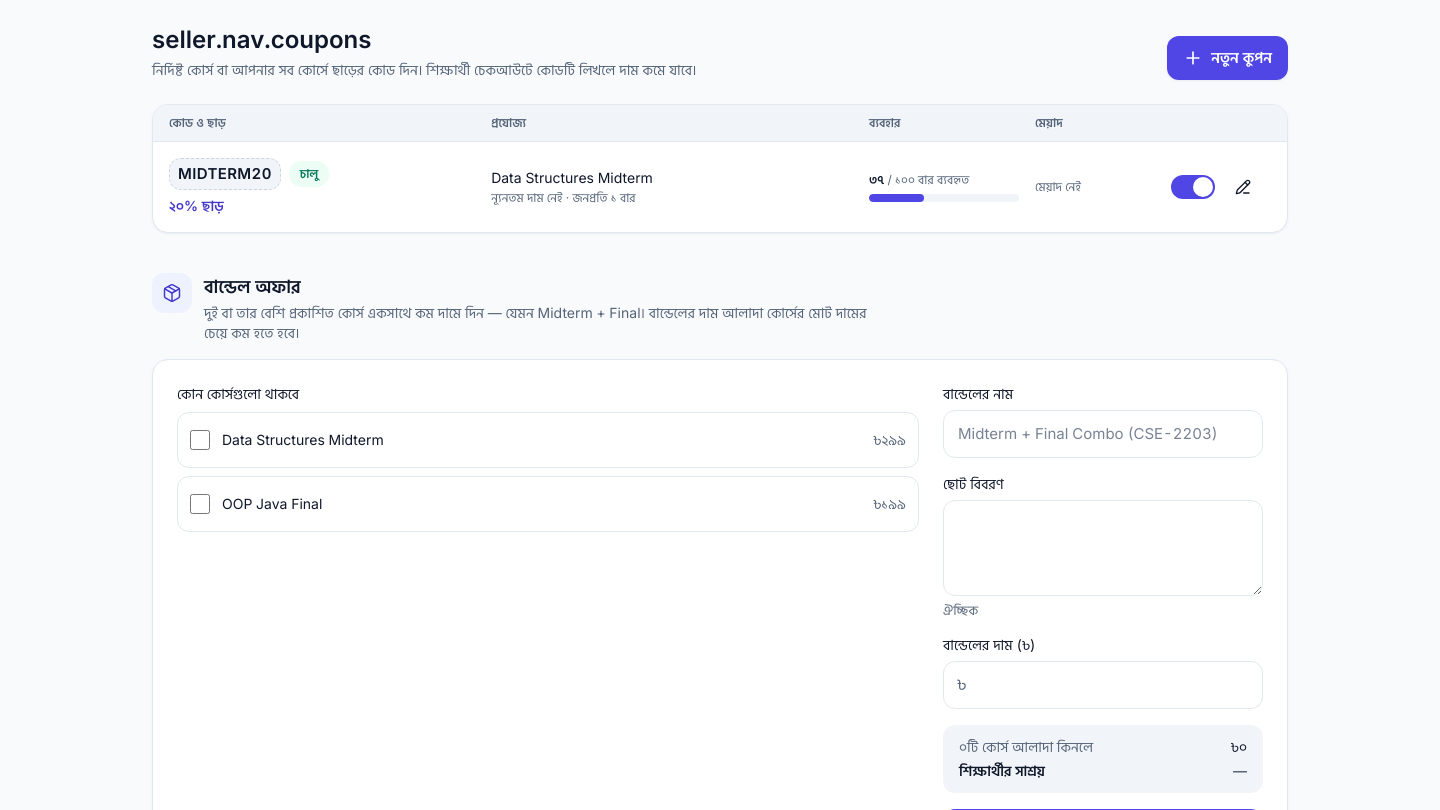
Seller coupons page › lists coupons with usage and toggles active via PATCH
Check: the text "MIDTERM20" is shown, box top-left (169, 158), bottom-right (281, 190)
Check: the text "২০% ছাড়" is shown, box top-left (169, 196), bottom-right (224, 214)
Click the switch named "MIDTERM20 চালু/বন্ধ" at (1193, 187), box top-left (1171, 175), bottom-right (1215, 199)
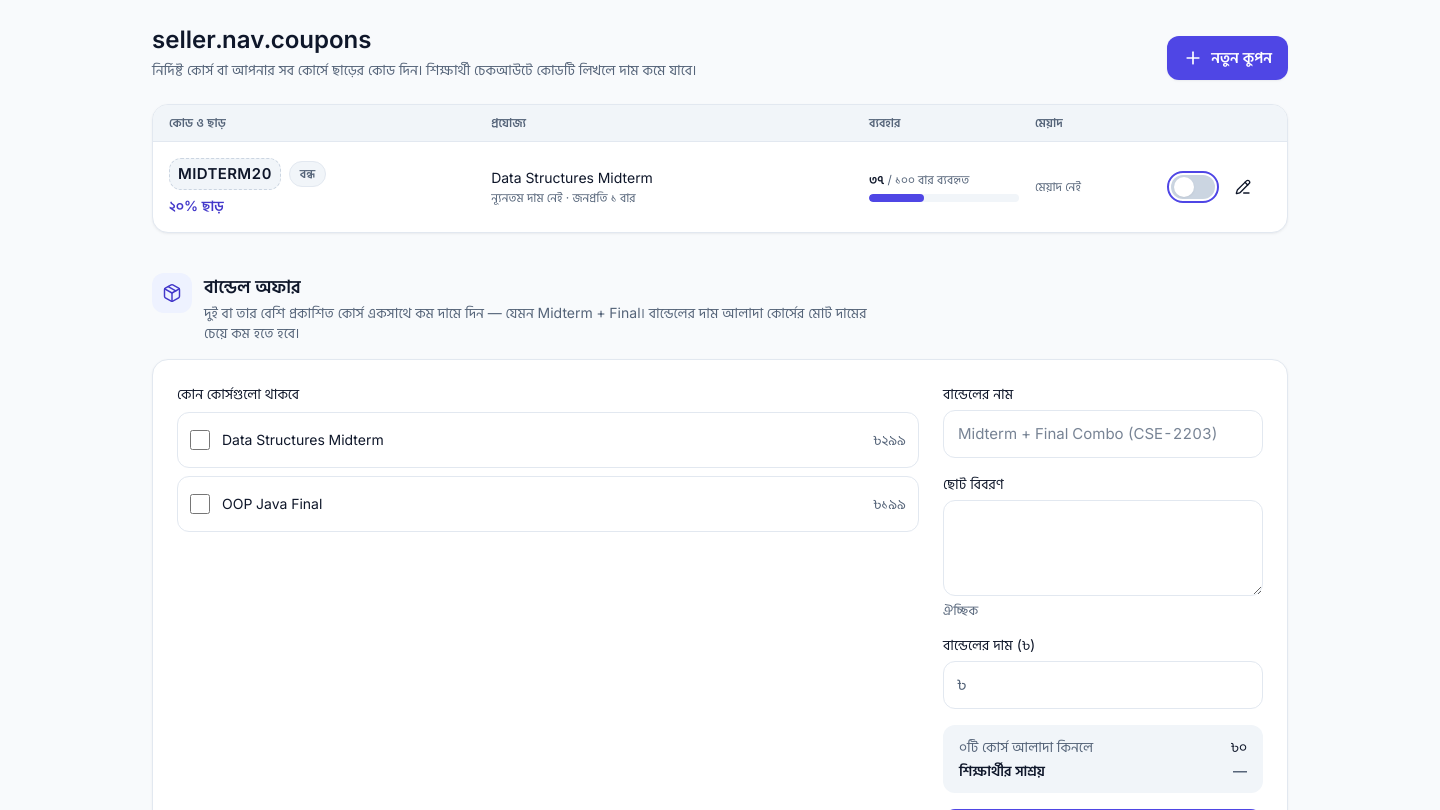
Check: the text "বন্ধ" is shown, box top-left (289, 161), bottom-right (326, 187)
